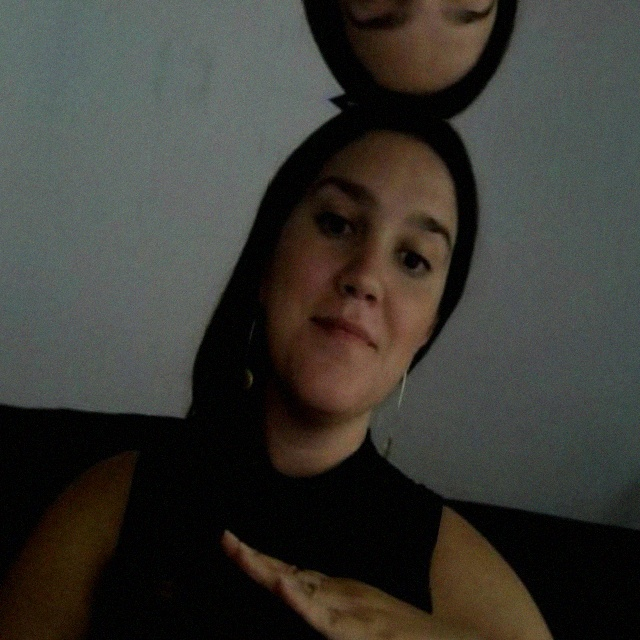Paper: (207, 537, 463, 640)
